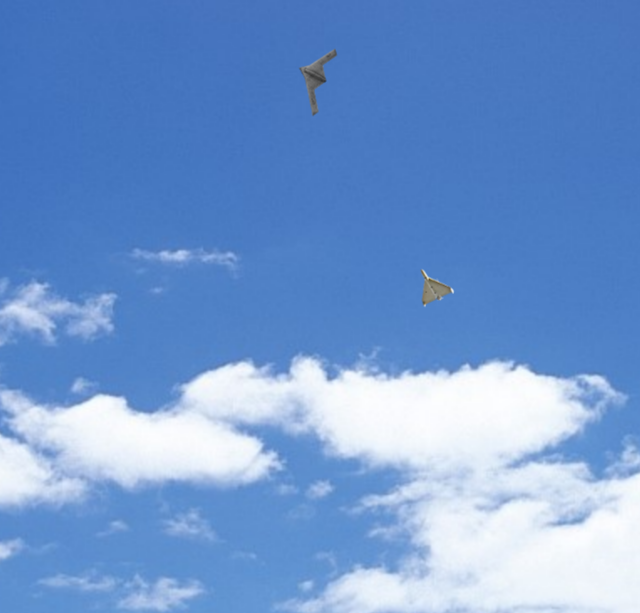military drone: (297, 48, 337, 116), (420, 268, 454, 307)
